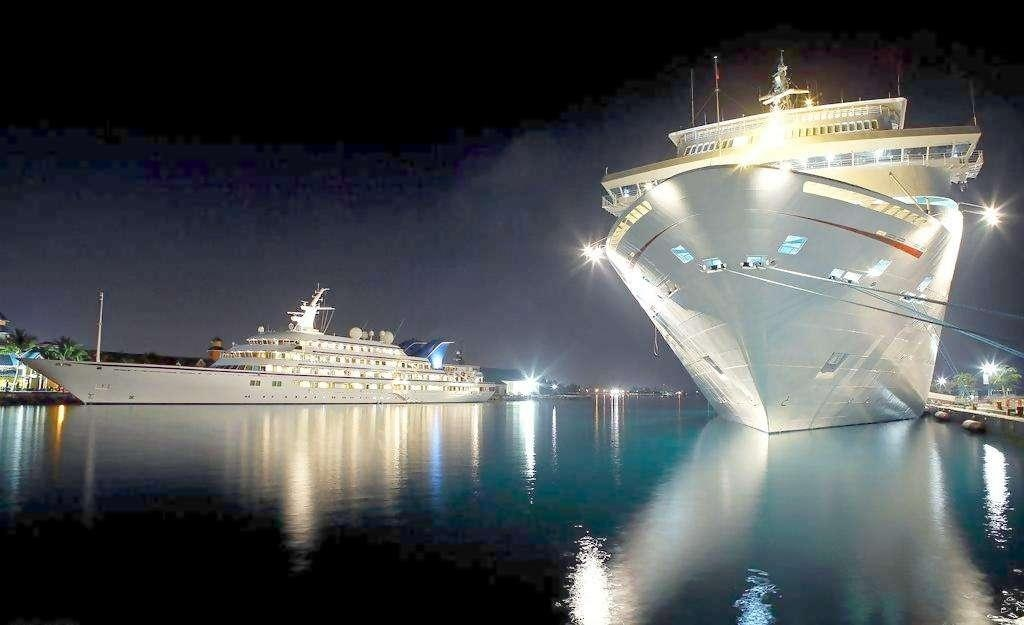youlun: (608, 81, 985, 435), (33, 279, 506, 402)
